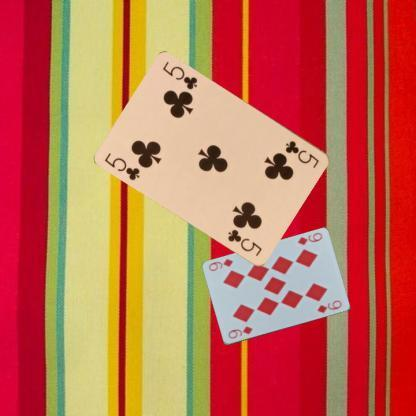5c: (102, 150, 142, 183), (283, 138, 320, 169)
9d: (294, 230, 324, 247), (225, 324, 254, 340)
